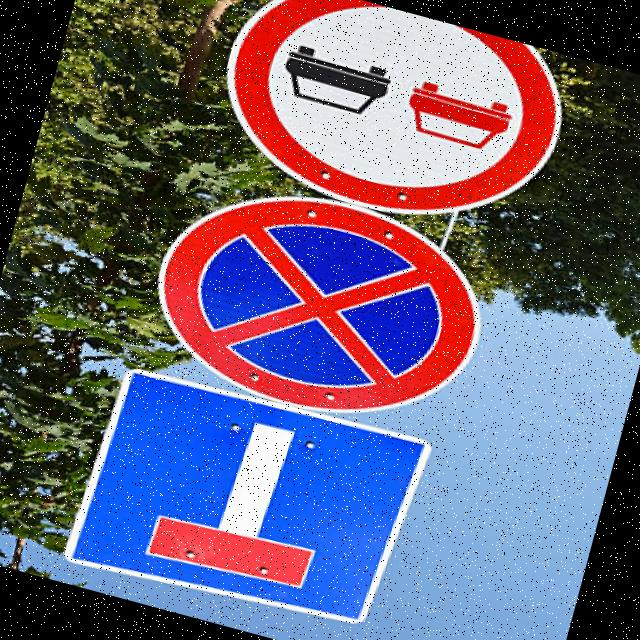no_parking: (121, 162, 532, 458)
no_passing: (189, 0, 597, 263)
